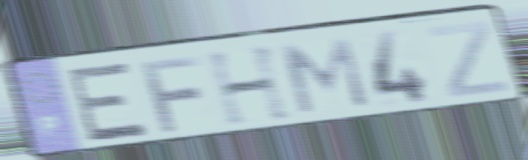4: (368, 28, 436, 108)
E: (65, 59, 153, 146)
F: (136, 53, 205, 135)
H: (202, 41, 298, 129)
M: (278, 35, 374, 117)
Z: (424, 18, 511, 100)
